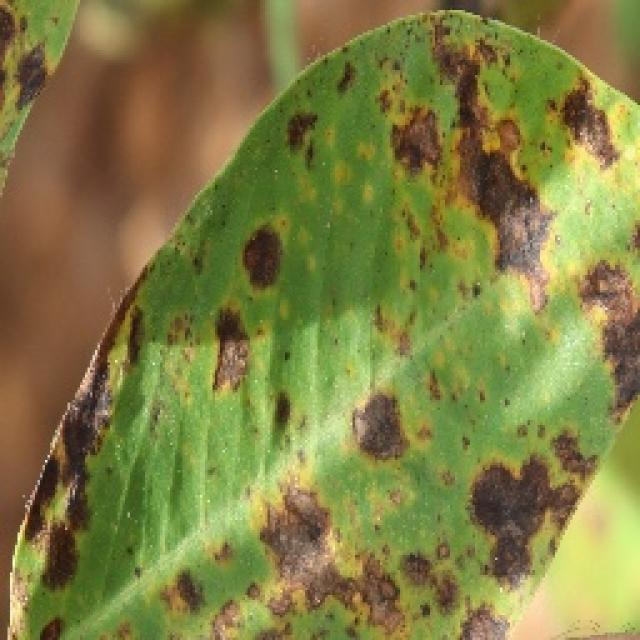Yellowish: (28, 18, 640, 640), (0, 0, 72, 170)
